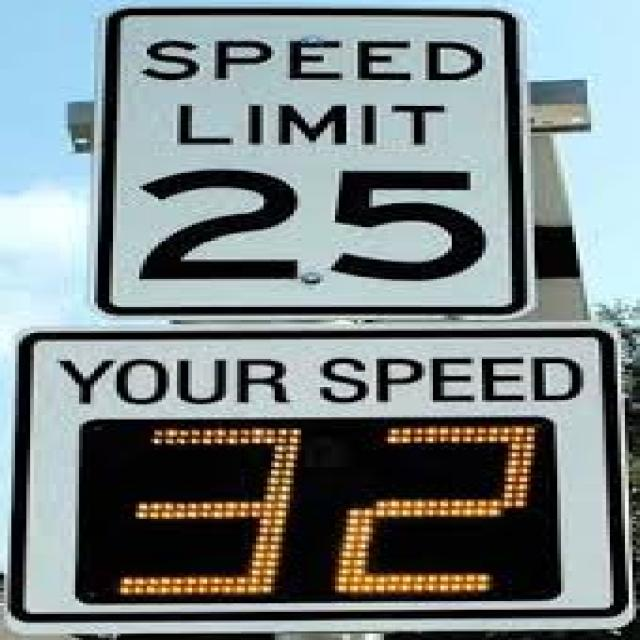speedLimit25: (94, 13, 527, 309)
